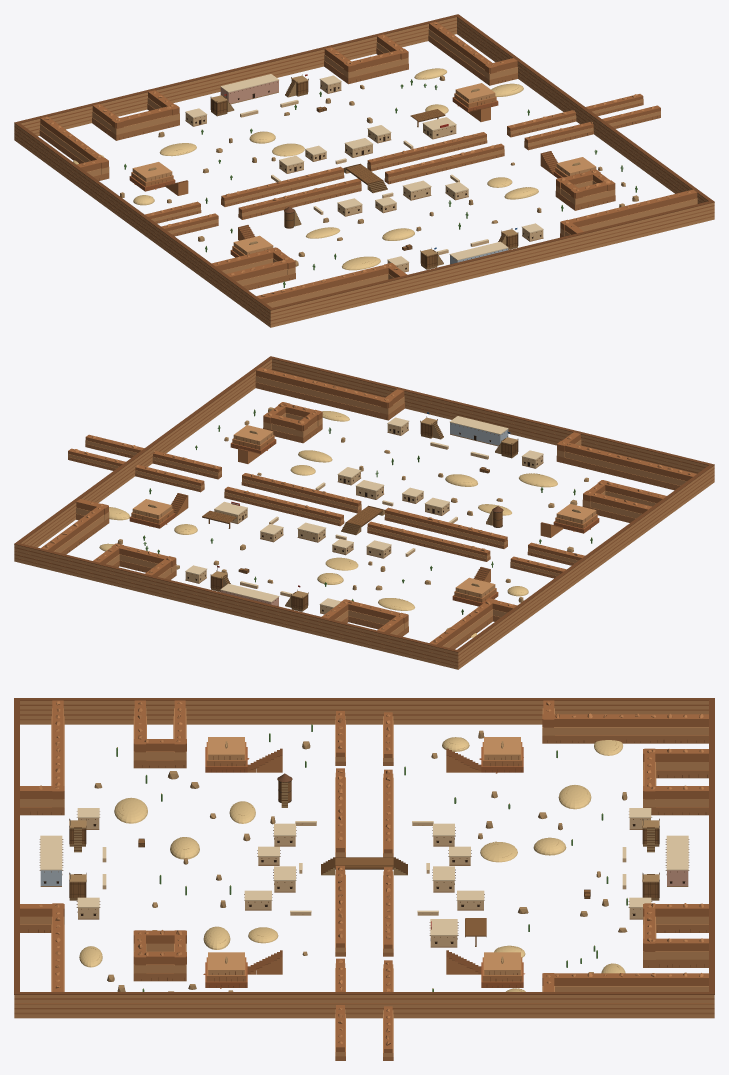
Rendered from deserto.glb.
3 views of the same model, one above another, from view 1: azimuth 30°, elevation 25°; view 2: azimuth 150°, elevation 25°; view 3: azimuth 270°, elevation 25° (orthographic). The views are drawn at different scales.
Parts seen in each view (by area): view 1: map_cliff_1.001, map_cliff_2.001, map_cliff_0.001, map_cliff_d.001, map_sand.001, map_adobe_l.001, map_adobe.001, map_mesa_2.001, map_wood.001, map_mesa_1.001, map_wood_dark.001, map_wood_light.001 (+4 smaller); view 2: map_cliff_1.001, map_cliff_2.001, map_cliff_0.001, map_cliff_d.001, map_sand.001, map_adobe_l.001, map_adobe.001, map_mesa_2.001, map_mesa_1.001, map_wood.001, map_wood_dark.001, map_mesa_0.001 (+4 smaller); view 3: map_cliff_1.001, map_cliff_2.001, map_cliff_0.001, map_cliff_d.001, map_sand.001, map_adobe_l.001, map_mesa_2.001, map_adobe.001, map_mesa_1.001, map_wood.001, map_wood_dark.001, map_mesa_0.001 (+3 smaller).
Boxes of the visible parts, <box> form: map_cliff_1.001: <box>14,17,714,327</box>; map_cliff_2.001: <box>14,19,714,321</box>; map_cliff_0.001: <box>14,23,714,324</box>; map_cliff_d.001: <box>14,14,714,310</box>; map_sand.001: <box>73,68,538,270</box>; map_adobe_l.001: <box>185,74,543,265</box>; map_adobe.001: <box>185,80,543,271</box>; map_mesa_2.001: <box>132,83,596,254</box>; map_wood.001: <box>211,80,517,267</box>; map_mesa_1.001: <box>131,93,568,256</box>; map_wood_dark.001: <box>186,74,541,268</box>; map_wood_light.001: <box>210,75,517,265</box>; map_cliff_1.001: <box>14,359,714,669</box>; map_cliff_2.001: <box>14,361,714,663</box>; map_cliff_0.001: <box>14,365,714,666</box>; map_cliff_d.001: <box>14,356,714,652</box>; map_sand.001: <box>99,411,557,637</box>; map_adobe_l.001: <box>185,416,543,607</box>; map_adobe.001: <box>185,422,543,613</box>; map_mesa_2.001: <box>132,425,596,597</box>; map_mesa_1.001: <box>131,435,597,602</box>; map_wood.001: <box>202,422,517,609</box>; map_wood_dark.001: <box>187,416,542,610</box>; map_mesa_0.001: <box>129,439,599,606</box>; map_cliff_1.001: <box>14,701,714,1056</box>; map_cliff_2.001: <box>14,700,714,1052</box>; map_cliff_0.001: <box>14,701,714,1060</box>; map_cliff_d.001: <box>14,698,714,994</box>; map_sand.001: <box>79,737,625,991</box>; map_adobe_l.001: <box>40,808,688,935</box>; map_mesa_2.001: <box>208,737,520,975</box>; map_adobe.001: <box>78,818,650,946</box>; map_mesa_1.001: <box>206,742,522,981</box>; map_wood.001: <box>70,781,658,946</box>; map_wood_dark.001: <box>39,777,689,942</box>; map_mesa_0.001: <box>203,747,524,988</box>.
Size of the model in its own units: 302 by 11.49 by 264.
